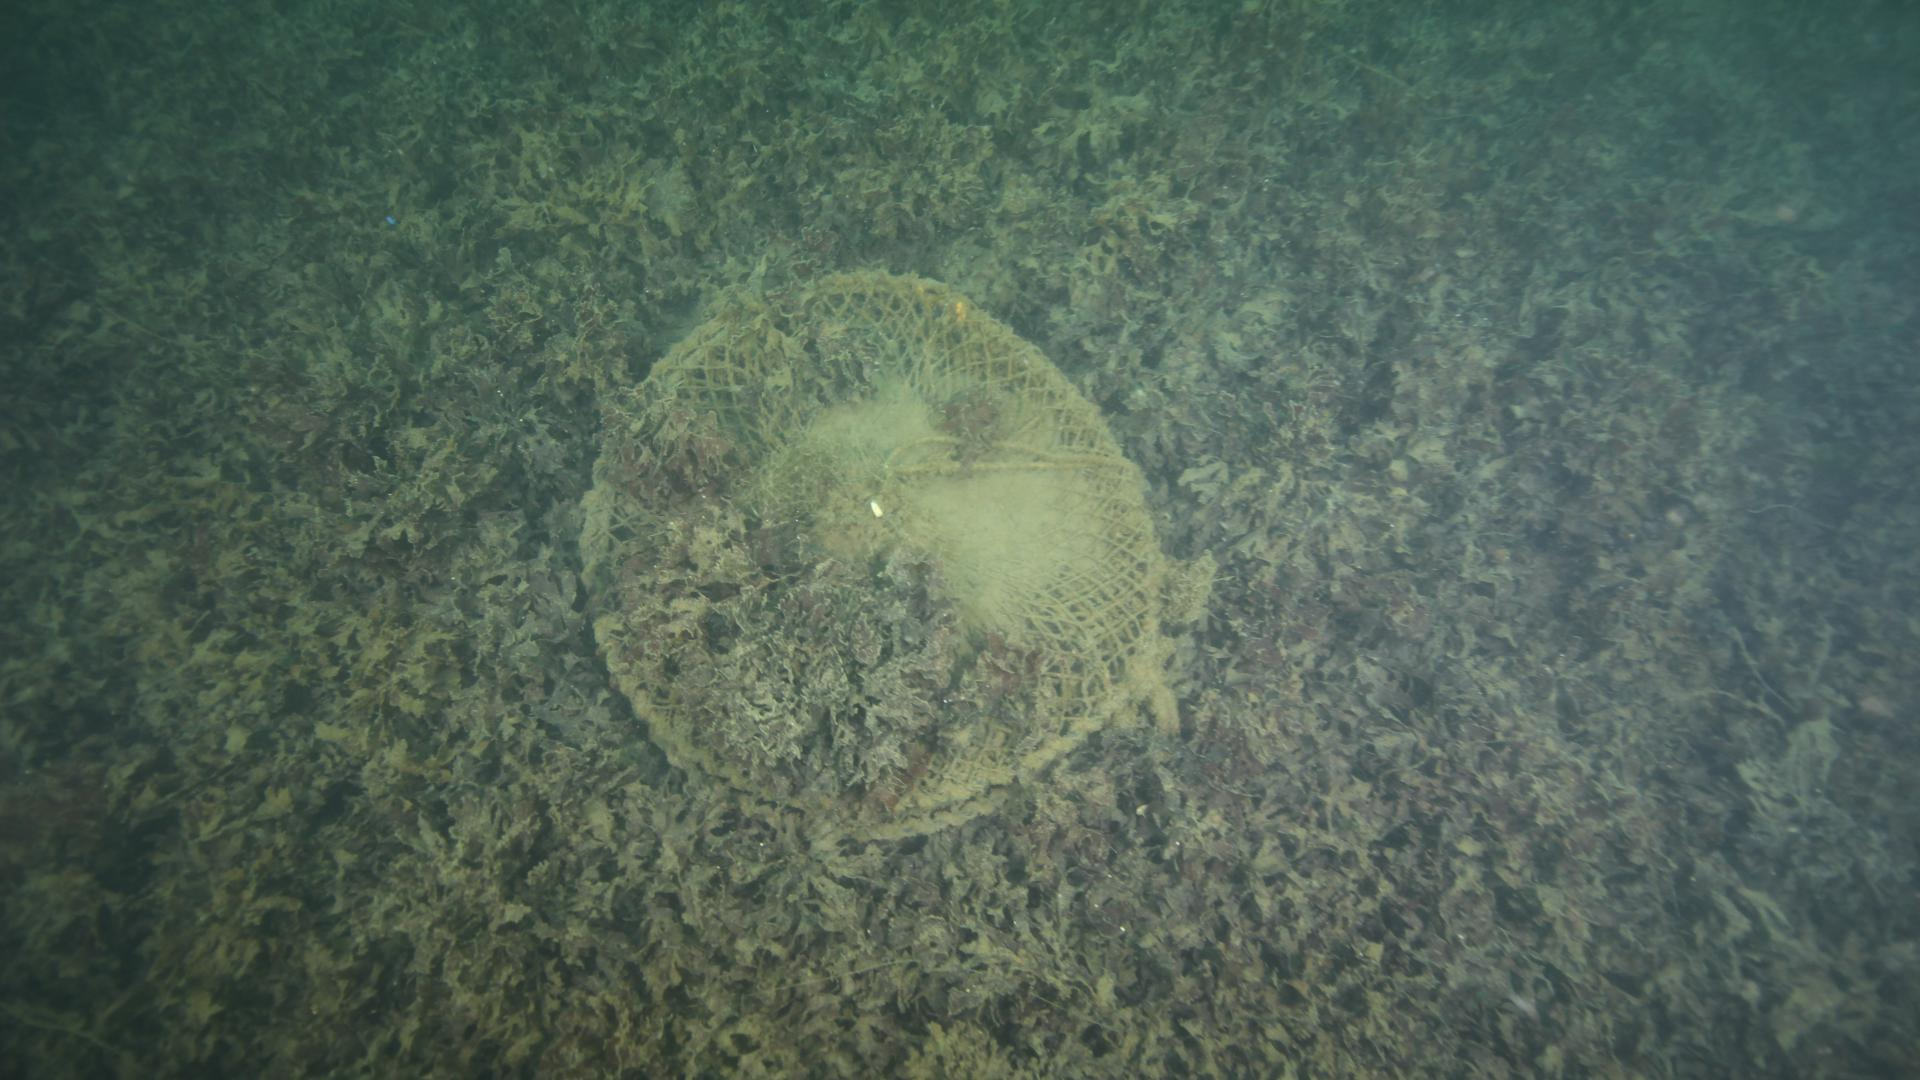circular fish trap: (570, 258, 1178, 848)
